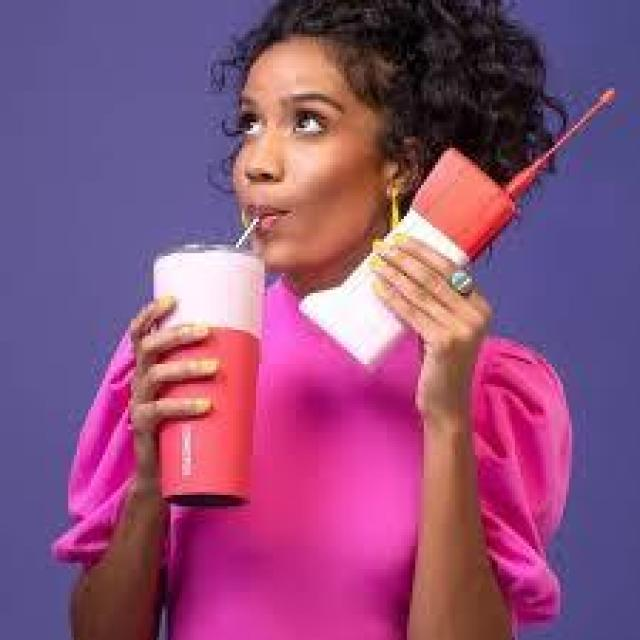bottle: (152, 242, 269, 509)
